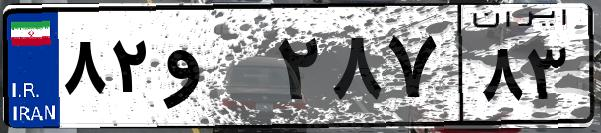2: (270, 28, 330, 110), (110, 28, 158, 98)
3: (525, 38, 570, 115)
7: (385, 28, 445, 110)
8: (330, 28, 385, 110), (57, 26, 110, 100), (475, 38, 525, 113)
و: (158, 20, 270, 120)
